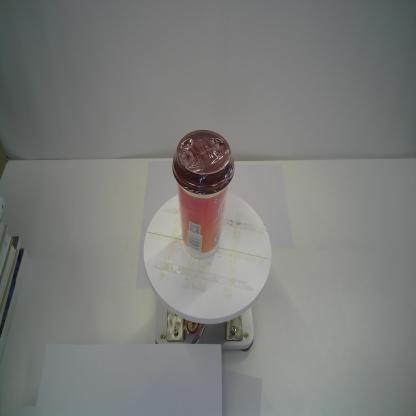Instant Drink: (172, 129, 236, 260)
